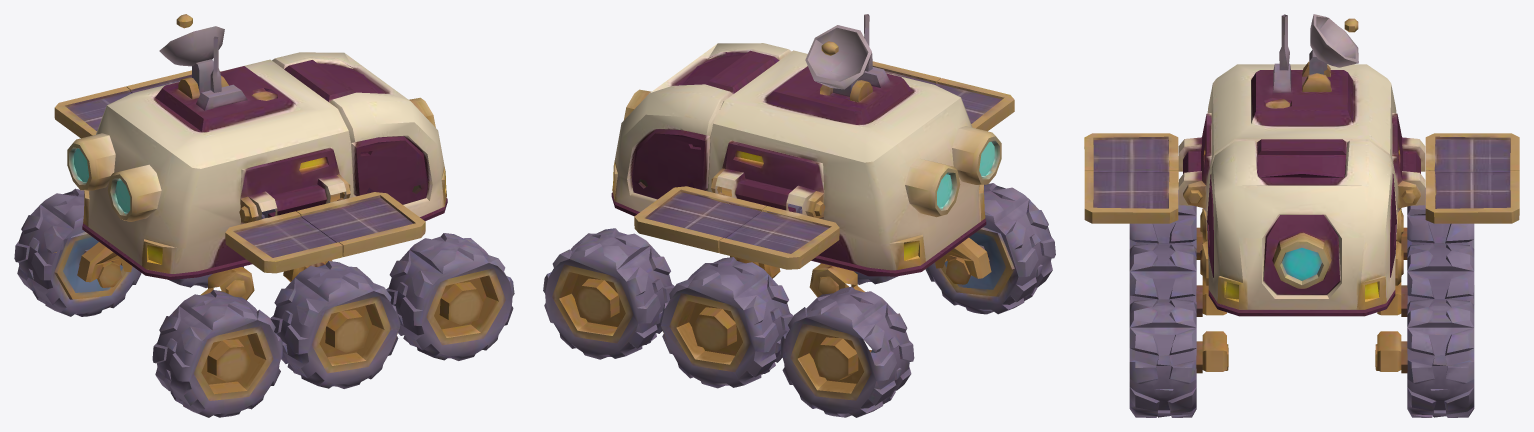
Rendered from rover.glb.
The picture shows the model from 3 angles, left to right: view 1: azimuth 30°, elevation 25°; view 2: azimuth 150°, elevation 25°; view 3: azimuth 270°, elevation 25°; orthographic projection. The views are drawn at different scales.
Visible parts, largest first — view 1: rover; view 2: rover; view 3: rover.
Boxes of the visible parts, x1=… form: rover: x1=14, y1=14, x2=514, y2=417; rover: x1=543, y1=14, x2=1055, y2=417; rover: x1=1084, y1=14, x2=1519, y2=417.
Bounding box in the file's own units: 8.92 × 7.93 × 9.99.
1 material, 1 textured.
